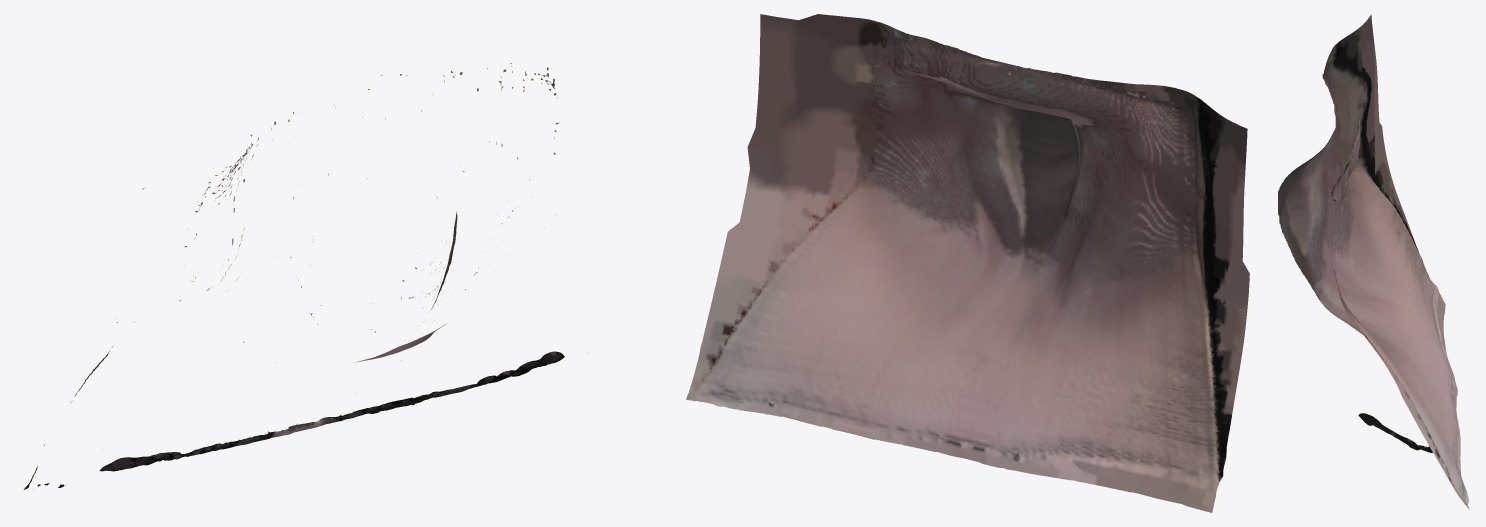
3 views of the same model, side by side, from view 1: azimuth 30°, elevation 25°; view 2: azimuth 150°, elevation 25°; view 3: azimuth 270°, elevation 25° (orthographic). The views are drawn at different scales.
Bounding box in the file's own units: 0.00149 × 0.000976 × 0.000581.
